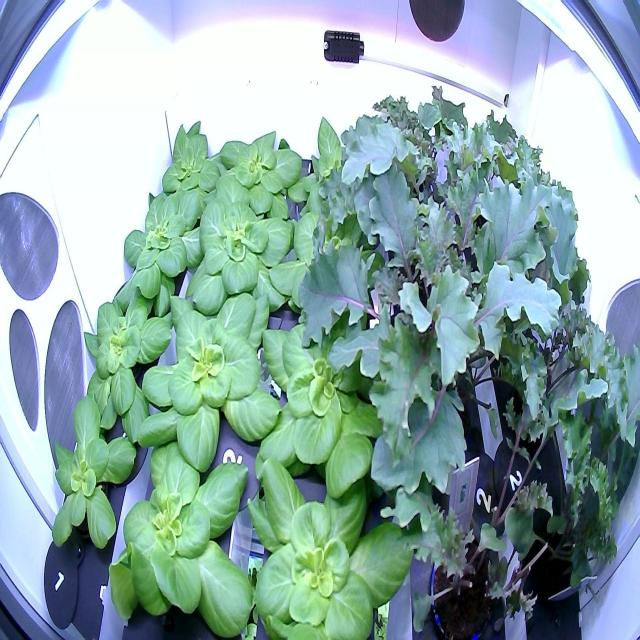young: (234, 448, 420, 639), (248, 284, 412, 499), (100, 422, 258, 640), (136, 271, 291, 480), (261, 196, 414, 352), (182, 171, 307, 348), (36, 380, 156, 560), (60, 273, 182, 446), (286, 108, 400, 266), (196, 109, 307, 256), (113, 181, 216, 321), (156, 104, 234, 212)
